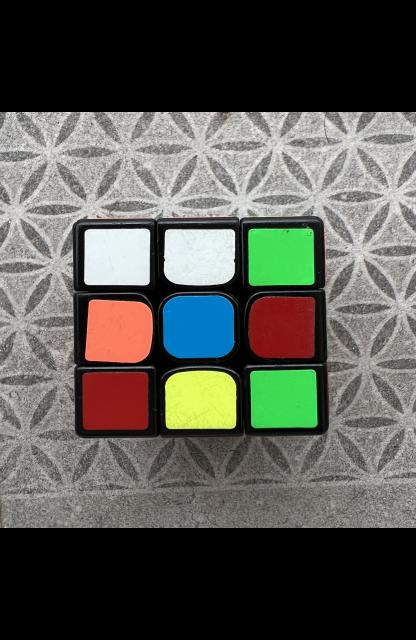Blue: (162, 295, 233, 358)
Green: (249, 370, 317, 428), (247, 228, 313, 286)
Orange: (84, 299, 152, 362)
Red: (247, 296, 314, 358), (82, 372, 148, 430)
White: (163, 229, 234, 285), (83, 228, 149, 285)
Yellow: (164, 371, 236, 429)
